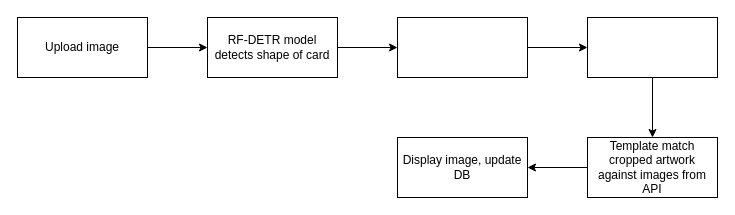
The diagram is 735 pixels wide and 215 high, and some of its shapes have lost their labels. Each missing label, with the centre of its shape:
Crop card into name and artwork areas: (462,47)
Detect name with OCR, match it against a list and query API: (652,47)
